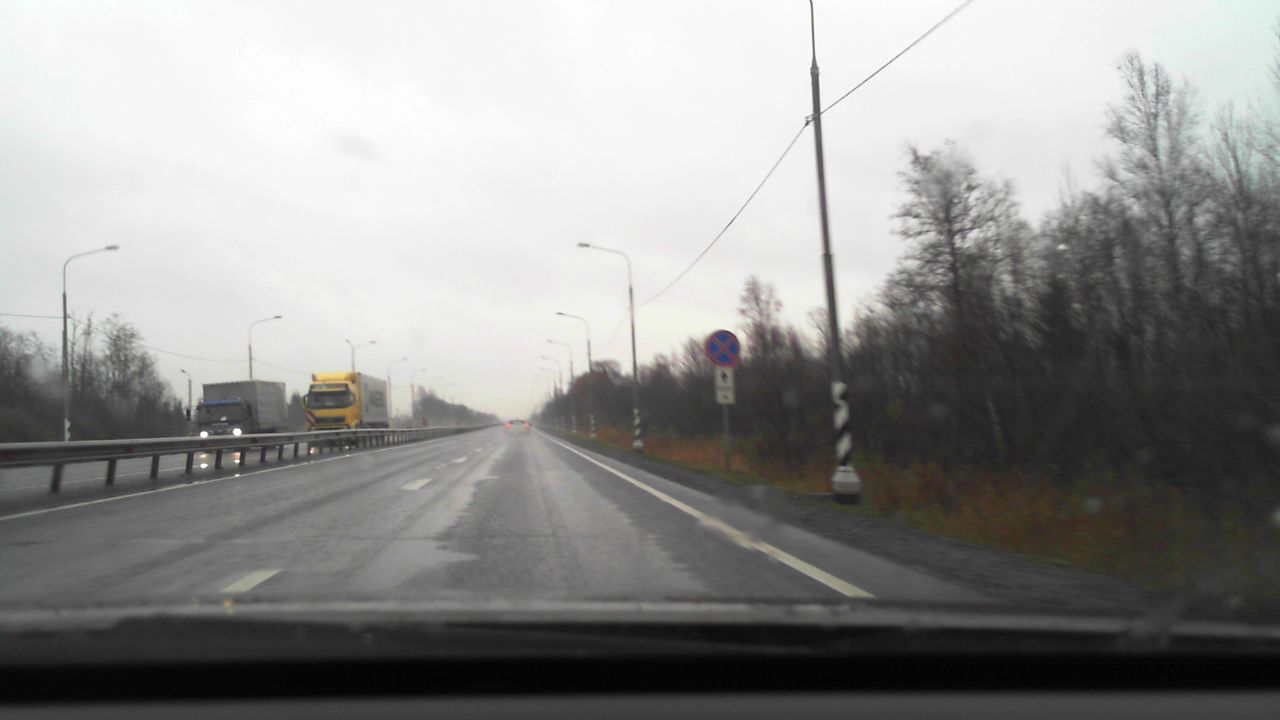No Parking: (704, 329, 740, 366)
